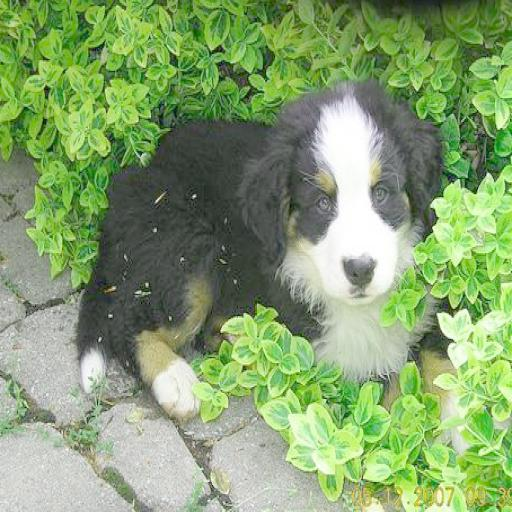dog_face: (271, 91, 432, 295)
